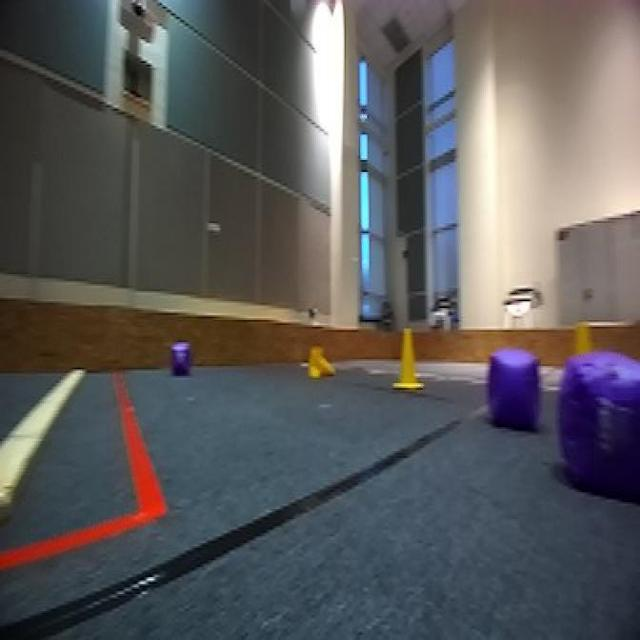frc_cone: (391, 325, 424, 395), (306, 346, 334, 380)
frc_cube: (554, 349, 640, 504), (483, 340, 548, 430), (168, 340, 193, 380)
